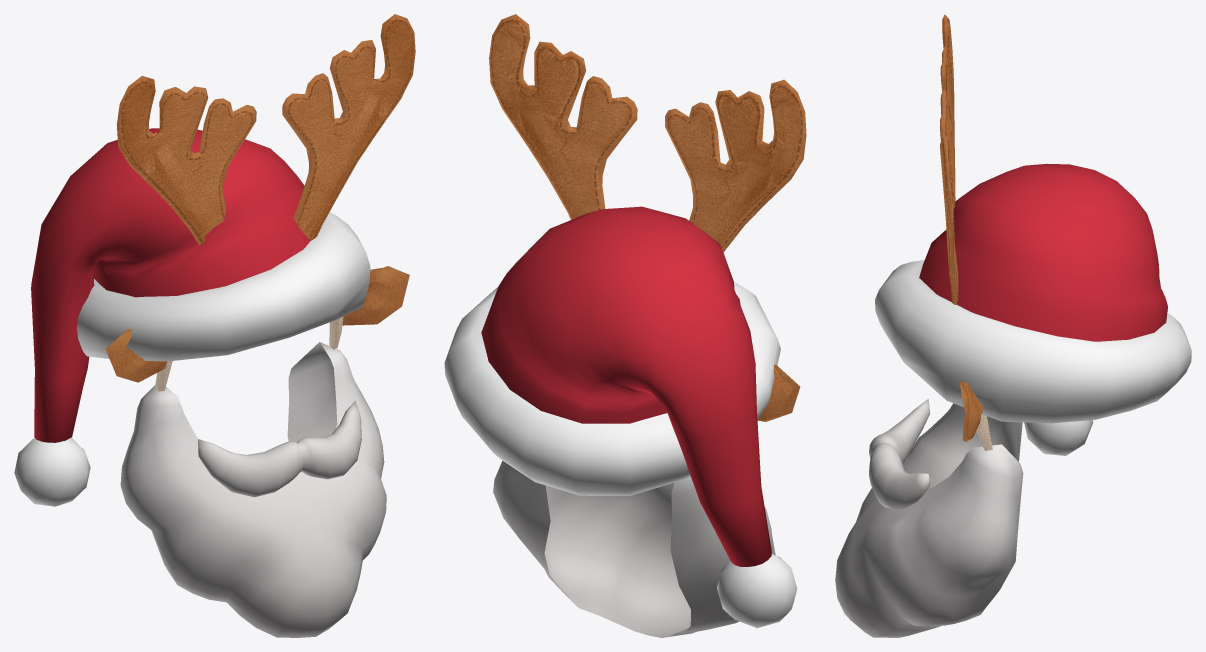
File: NewYearMask.glb
The picture shows the model from 3 angles, left to right: view 1: azimuth 30°, elevation 25°; view 2: azimuth 150°, elevation 25°; view 3: azimuth 270°, elevation 25°; orthographic projection. The views are drawn at different scales.
Visible parts, largest first — view 1: SantaClaus, Reindeer; view 2: SantaClaus, Reindeer; view 3: SantaClaus, Reindeer.
Part boxes in pixels (x1,y1,x2,y2): SantaClaus: (14, 128, 386, 637); Reindeer: (105, 14, 415, 391); SantaClaus: (444, 206, 797, 637); Reindeer: (489, 14, 806, 421); SantaClaus: (835, 163, 1191, 637); Reindeer: (940, 14, 992, 450).
Size of the model in its own units: 1.47 by 2.32 by 1.35.
Materials: 2 (2 with a texture image).
